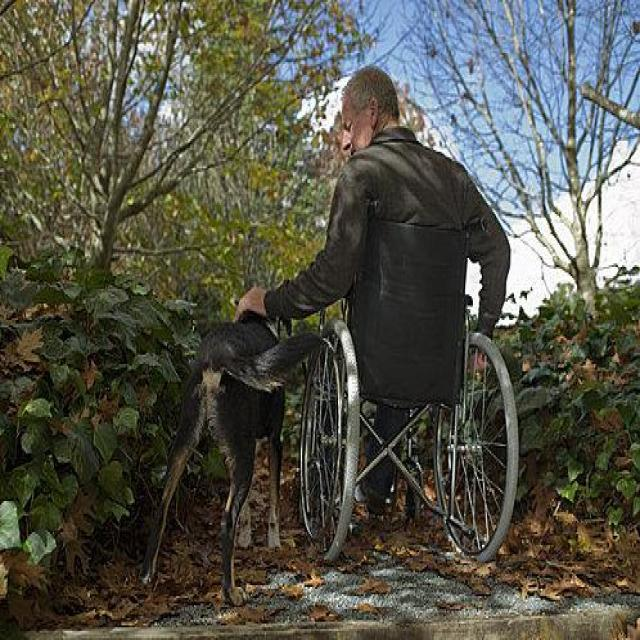wheelchairs: (293, 220, 526, 578)
